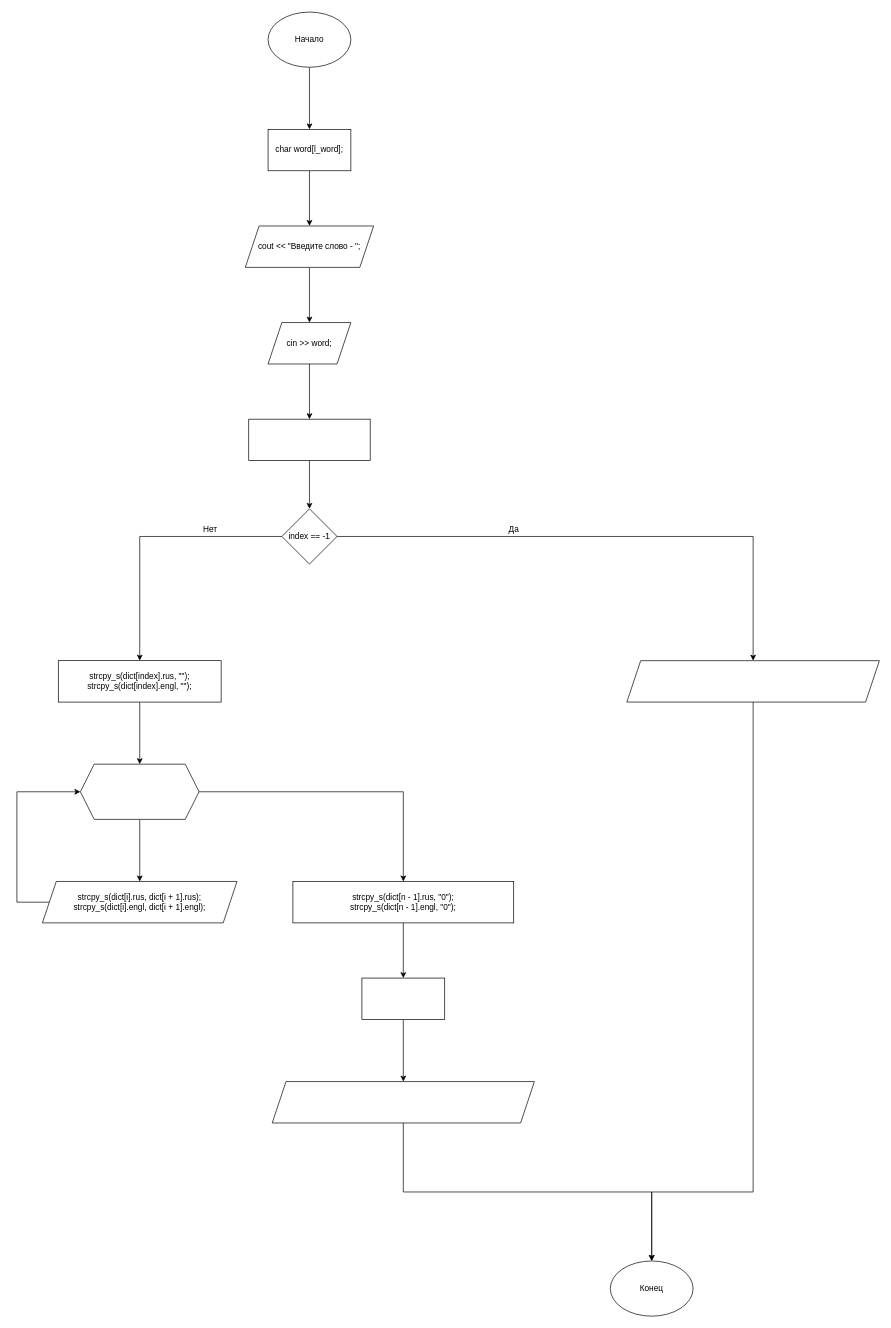
This 891x1328 diagram has some shape labels left out. Each missing label, with the centre of its shape:
cout << "Cлово " << word << " удалено из словаря!" << endl;: (403,1102)
cout << "Слова '" << word << "' нет в словаре!" << endl;: (752,681)
int i = index; i < n - 1; i++: (139,791)
int index = Find(word);: (309,439)
n--;: (403,998)
